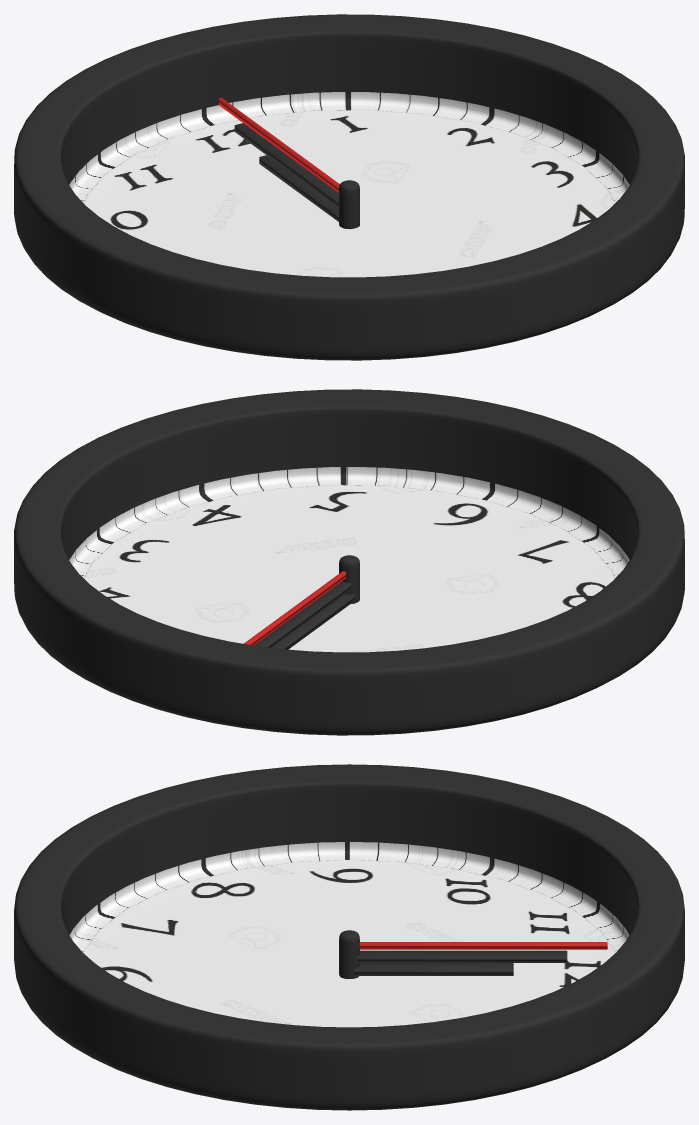
File: relog_1.dae
3 views of the same model, one above another, from view 1: azimuth 30°, elevation 25°; view 2: azimuth 150°, elevation 25°; view 3: azimuth 270°, elevation 25° (orthographic).
Visible parts, largest first — view 1: relog, minutos, segundos, hora, centro; view 2: relog, minutos, hora, segundos, centro; view 3: relog, minutos, hora, segundos, centro.
Boxes of the visible parts, x1=… form: relog: x1=14, y1=14, x2=684, y2=360; minutos: x1=234, y1=123, x2=338, y2=207; segundos: x1=219, y1=97, x2=339, y2=192; hora: x1=259, y1=155, x2=338, y2=221; centro: x1=339, y1=180, x2=359, y2=229; relog: x1=14, y1=389, x2=684, y2=735; minutos: x1=254, y1=581, x2=350, y2=647; hora: x1=272, y1=594, x2=355, y2=649; segundos: x1=243, y1=571, x2=345, y2=645; centro: x1=339, y1=555, x2=359, y2=603; relog: x1=14, y1=764, x2=684, y2=1110; minutos: x1=357, y1=950, x2=567, y2=962; hora: x1=354, y1=963, x2=513, y2=975; segundos: x1=359, y1=942, x2=607, y2=949; centro: x1=339, y1=930, x2=359, y2=978.
Size of what is drawn, in the model's own units: 4.98 by 4.98 by 0.6365.
3 materials, 1 textured.
